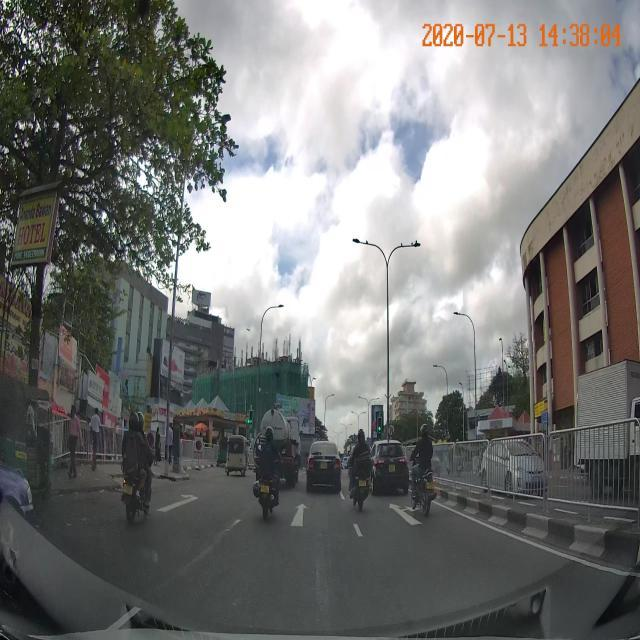forward: (215, 500, 364, 542)
